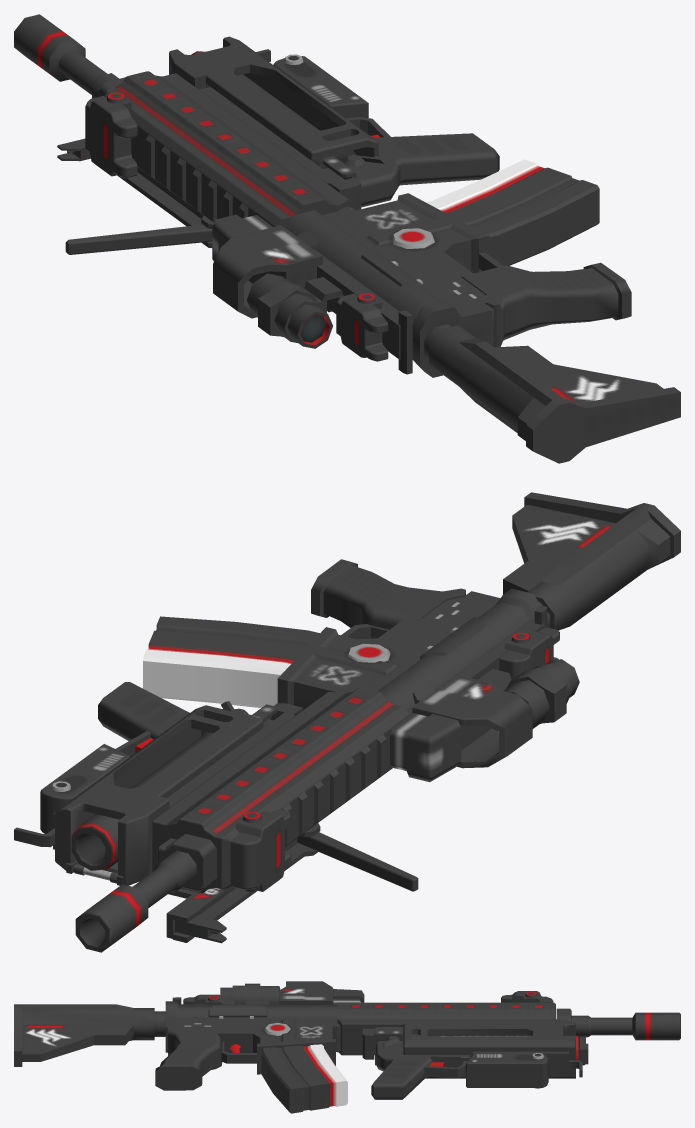
File: akari.glb
The picture shows the model from 3 angles, top to bottom: view 1: azimuth 30°, elevation 25°; view 2: azimuth 150°, elevation 25°; view 3: azimuth 270°, elevation 25°; orthographic projection. The views are drawn at different scales.
Parts seen in each view (by area): view 1: Akari_Original_Weapon; view 2: Akari_Original_Weapon; view 3: Akari_Original_Weapon.
Boxes of the visible parts, left/top/right/bottom form: Akari_Original_Weapon: left=14, top=14, right=680, bottom=463; Akari_Original_Weapon: left=14, top=492, right=680, bottom=952; Akari_Original_Weapon: left=14, top=981, right=680, bottom=1113.
Bounding box in the file's own units: 0.2357 × 0.0571 × 0.5618.
1 material, 1 textured.
